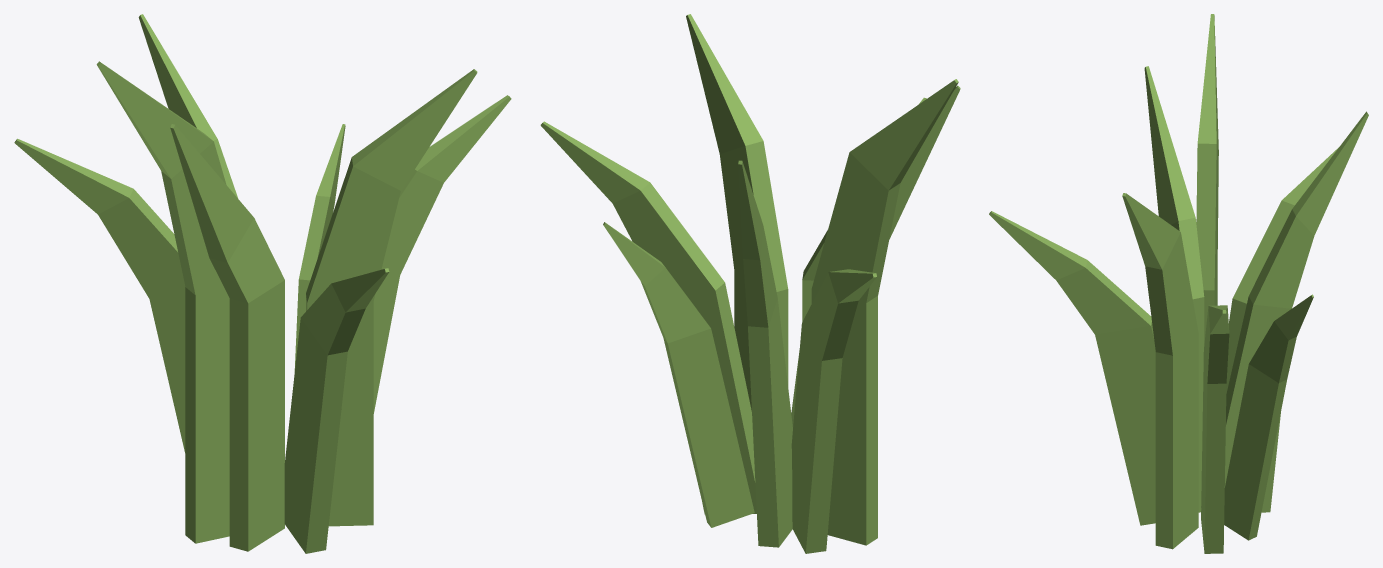
Rendered from grass2.fbx.
3 views of the same model, side by side, from view 1: azimuth 30°, elevation 25°; view 2: azimuth 150°, elevation 25°; view 3: azimuth 270°, elevation 25° (orthographic). The views are drawn at different scales.
Parts seen in each view (by area): view 1: Cube.098; view 2: Cube.098; view 3: Cube.098.
Boxes of the visible parts, x1,y1,x2,y2 form: Cube.098: [14, 14, 511, 553]; Cube.098: [540, 14, 960, 553]; Cube.098: [989, 14, 1368, 553].
Size of the model in its own units: 144 by 165 by 131.
Materials: 1 (1 with a texture image).
